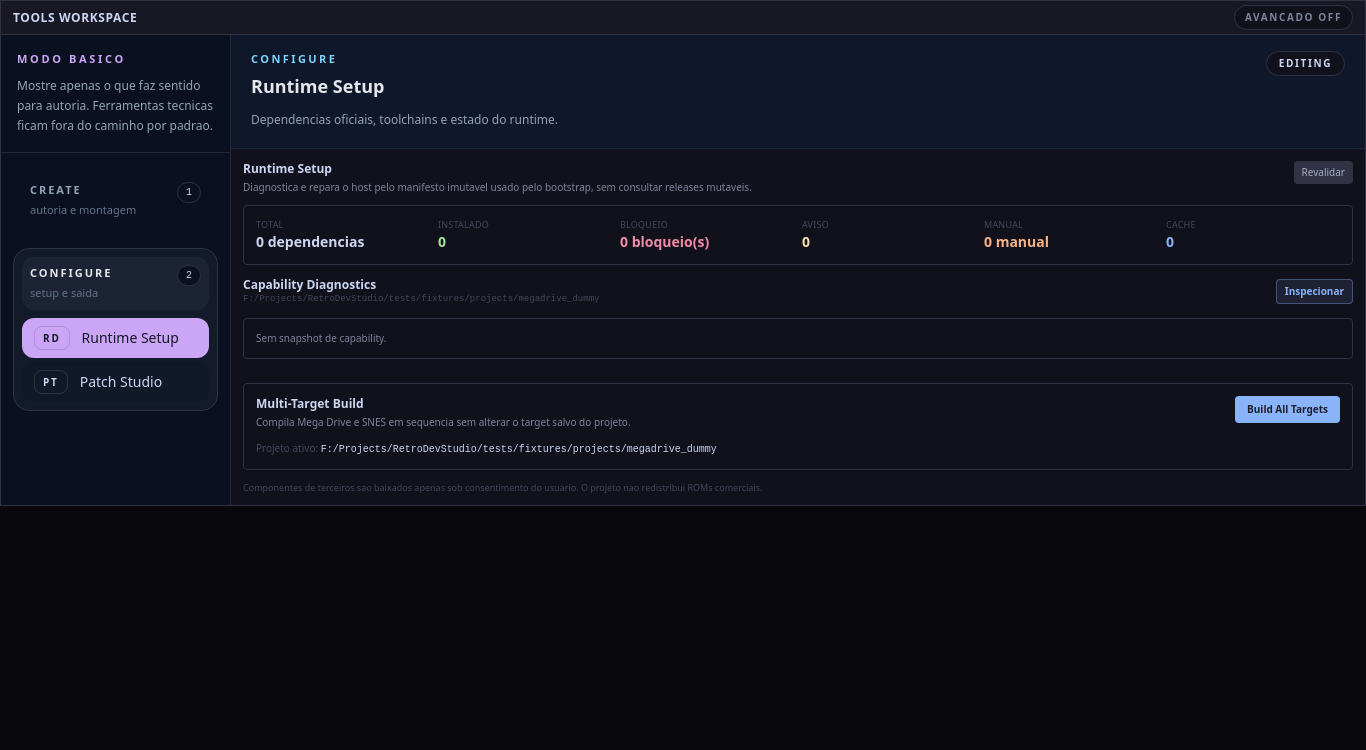
Test: ToolsPanel Asset Browser › exposes the Parity Capture tab with golden path input, frame cap and run button
Click the button "Avancado OFF": (1294, 18) [1234,5,1353,30]
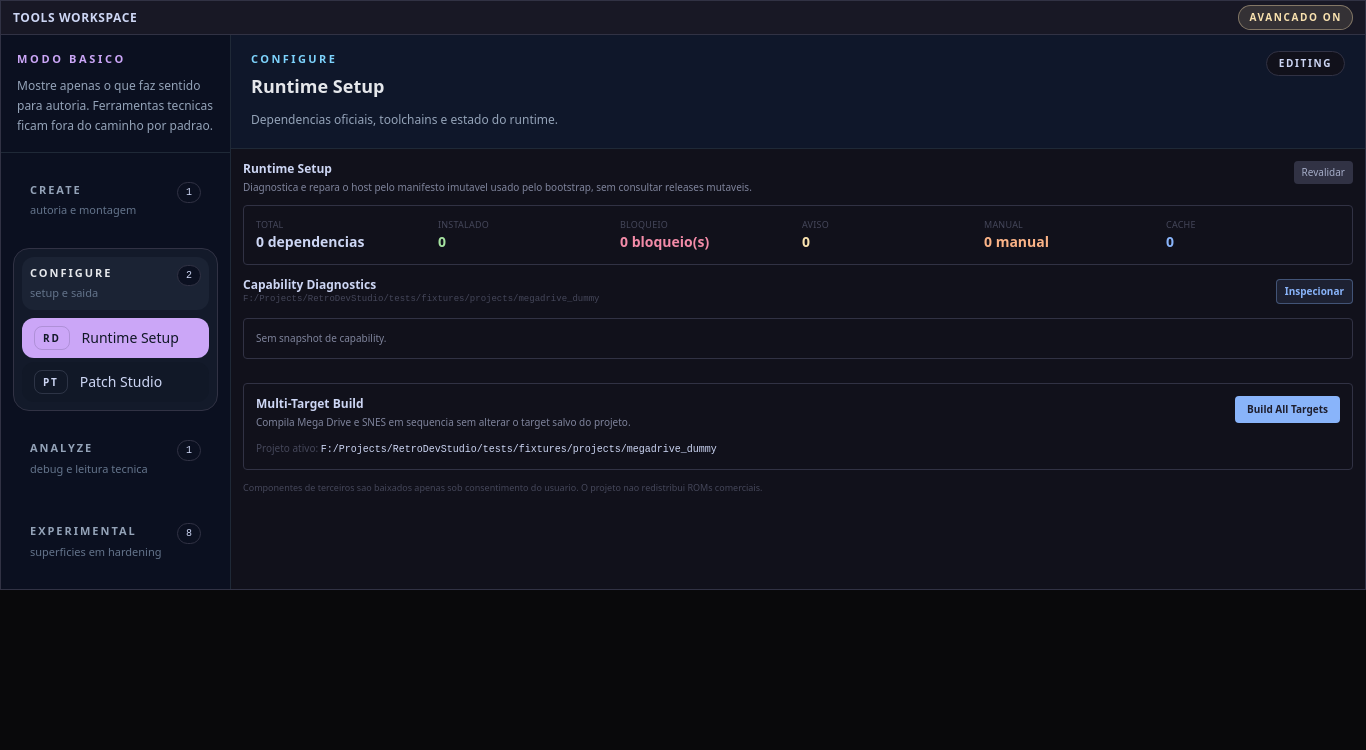
Click the button "Experimental superficies em hardening 8": (116, 542) [22,515,209,568]
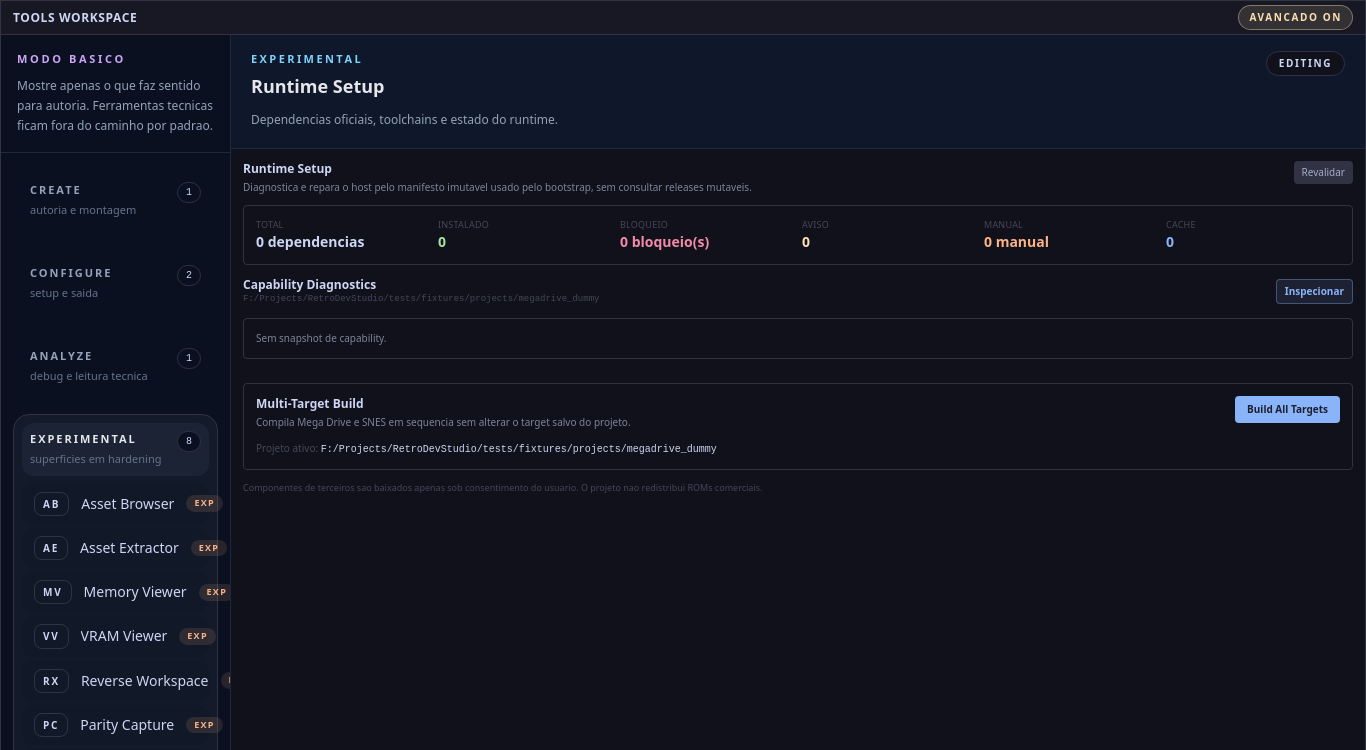
Click the button "PC Parity Capture Exp": (116, 725) [22,705,209,745]
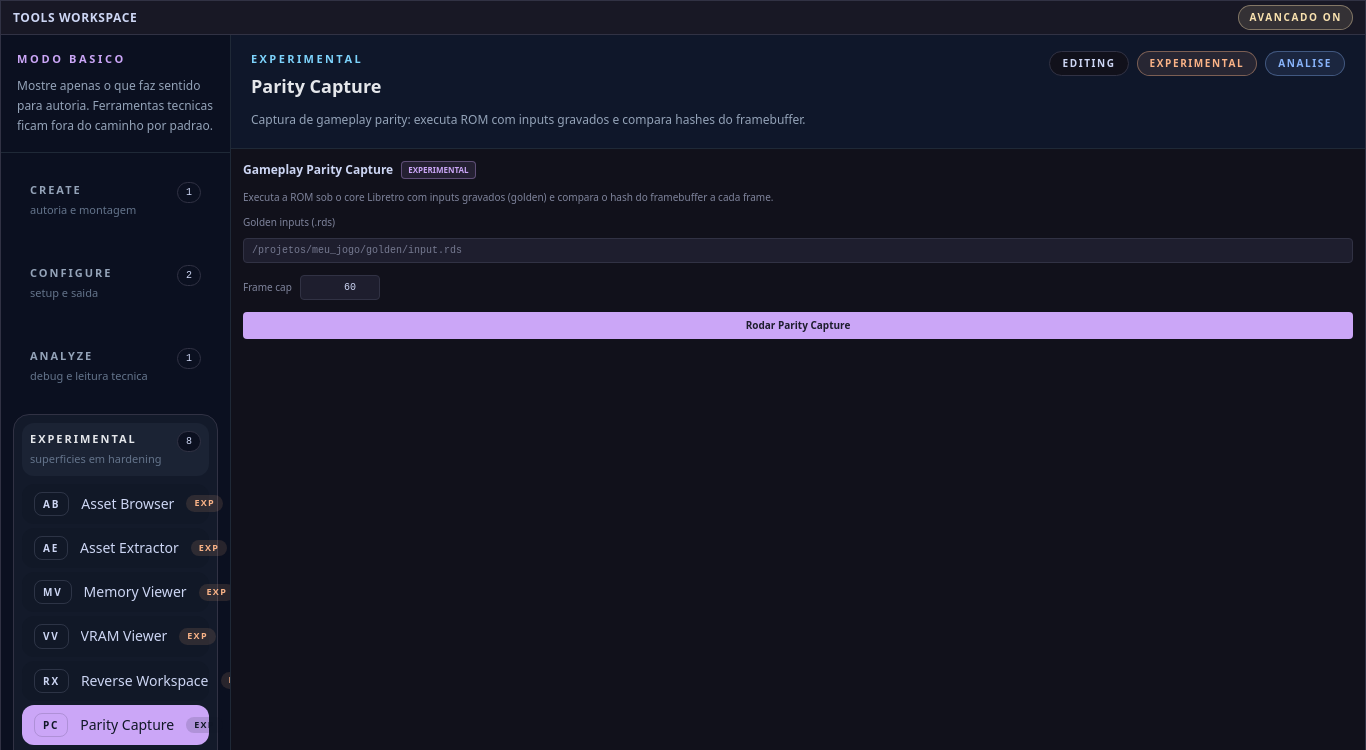
Check: the element with test id "parity-capture-section" is shown, box [231,148,1365,351]
Check: the number field holds "60", box [300,275,380,300]
Check: the element with test id "parity-capture-section" shows "Experimental", box [408,164,469,174]
